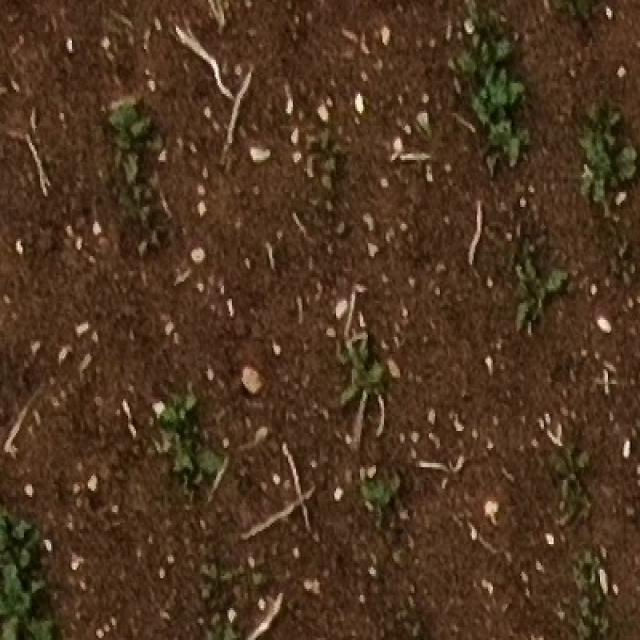cirse: (517, 265, 586, 349), (511, 254, 580, 335), (523, 256, 589, 338)
